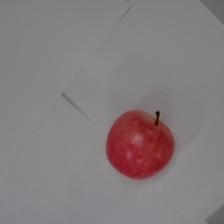red: (105, 106, 175, 180)
